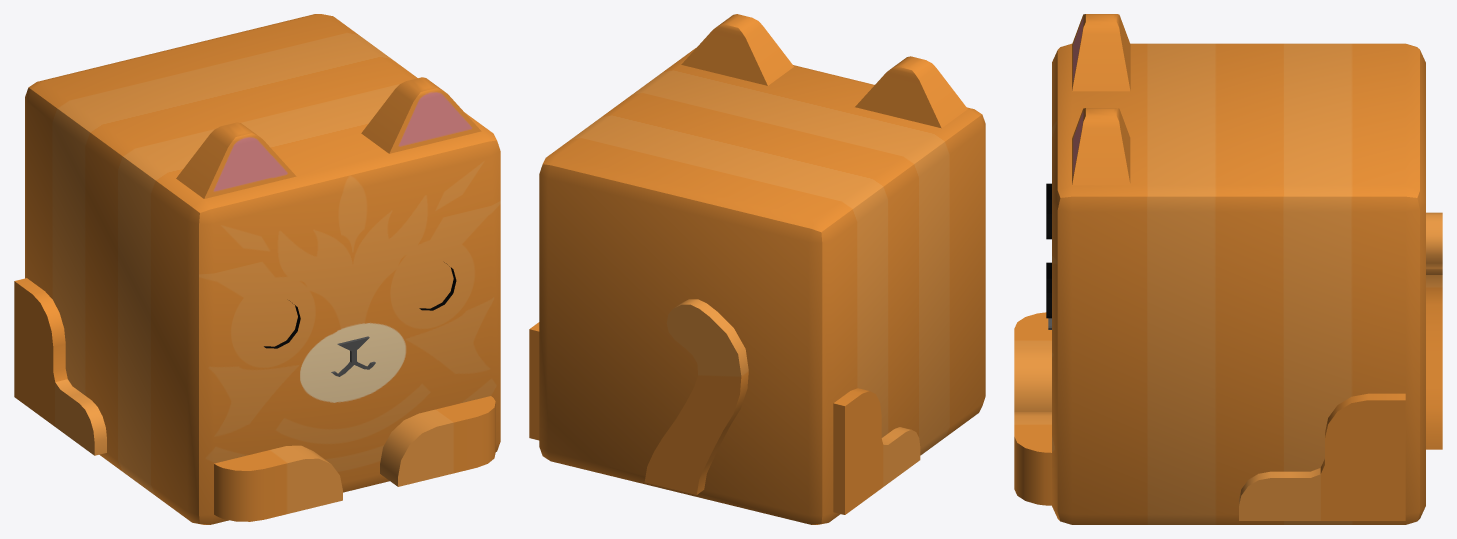
Rendered from Cube_OrangeCat.glb.
The picture shows the model from 3 angles, left to right: view 1: azimuth 30°, elevation 25°; view 2: azimuth 150°, elevation 25°; view 3: azimuth 270°, elevation 25°; orthographic projection. The views are drawn at different scales.
Visible parts, largest first — view 1: SpotCat; view 2: SpotCat; view 3: SpotCat.
Boxes of the visible parts, x1,y1,x2,y2 form: SpotCat: [14, 14, 500, 524]; SpotCat: [529, 14, 985, 524]; SpotCat: [1014, 14, 1442, 524].
Size of the model in its own units: 1.08 by 1.15 by 1.14.
1 material, 1 textured.
